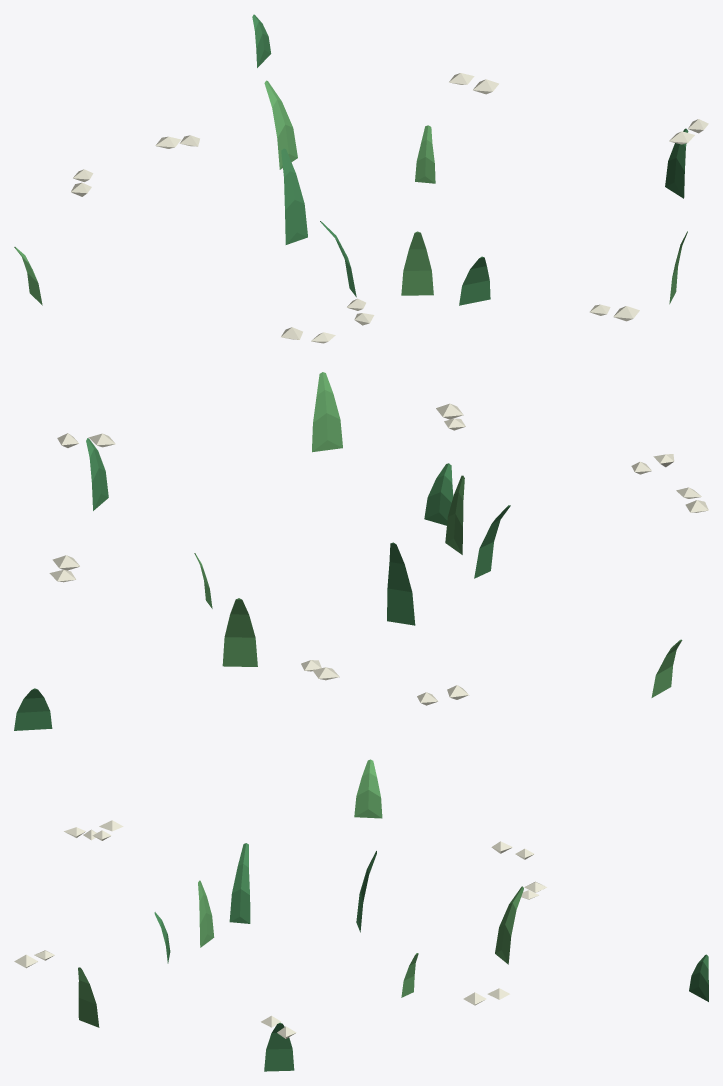
Rendered from flowers_creeping_b.glb.
3 views of the same model, one above another, from view 1: azimuth 30°, elevation 25°; view 2: azimuth 150°, elevation 25°; view 3: azimuth 270°, elevation 25° (orthographic). The views are drawn at different scales.
Parts seen in each view (by area): view 1: FlowersCreepingB; view 2: FlowersCreepingB; view 3: FlowersCreepingB.
Boxes of the visible parts, x1,y1,x2,y2 form: FlowersCreepingB: (14,14,708,343); FlowersCreepingB: (14,372,708,730); FlowersCreepingB: (14,759,708,1071).
Bounding box in the file's own units: 0.7622 × 0.097 × 0.8043.
